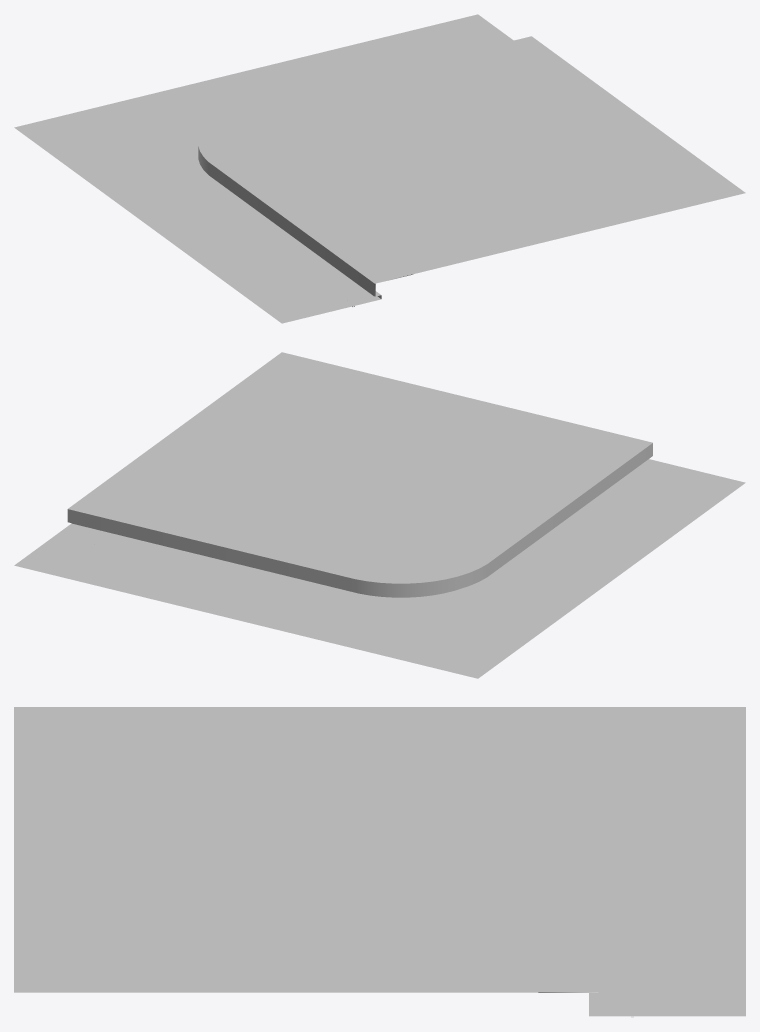
The model's file is Ceiling03_3_700x700cm.FBX.
3 views of the same model, one above another, from view 1: azimuth 30°, elevation 25°; view 2: azimuth 150°, elevation 25°; view 3: azimuth 270°, elevation 25° (orthographic). The views are drawn at different scales.
Parts seen in each view (by area): view 1: Ceiling; view 2: Ceiling; view 3: Ceiling.
Boxes of the visible parts, x1=… form: Ceiling: x1=14, y1=14, x2=745, y2=323; Ceiling: x1=14, y1=352, x2=745, y2=678; Ceiling: x1=14, y1=707, x2=745, y2=1016.
Size of the model in its own units: 700 by 26.5 by 700.
